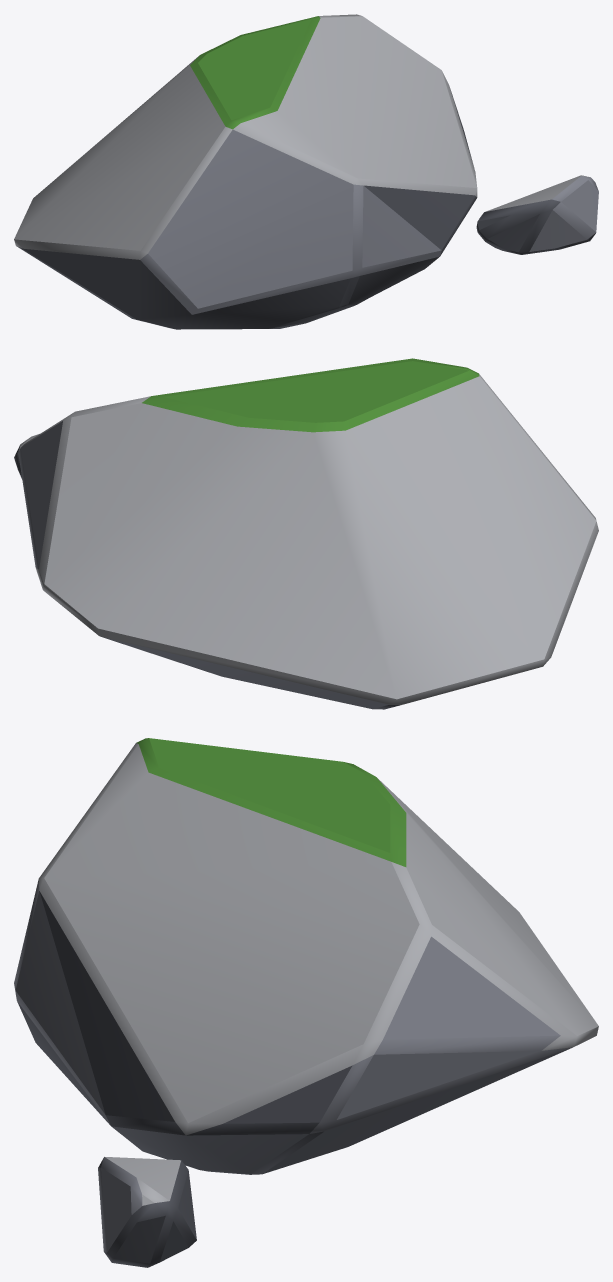
File: Boulder_11.glb
The picture shows the model from 3 angles, top to bottom: view 1: azimuth 30°, elevation 25°; view 2: azimuth 150°, elevation 25°; view 3: azimuth 270°, elevation 25°; orthographic projection. The views are drawn at different scales.
Parts seen in each view (by area): view 1: Boulder_11; view 2: Boulder_11; view 3: Boulder_11.
Boxes of the visible parts, x1,y1,x2,y2 form: Boulder_11: (14, 14, 598, 329); Boulder_11: (14, 358, 598, 709); Boulder_11: (14, 738, 598, 1267).
Bounding box in the file's own units: 6.23 × 2.36 × 4.36.
